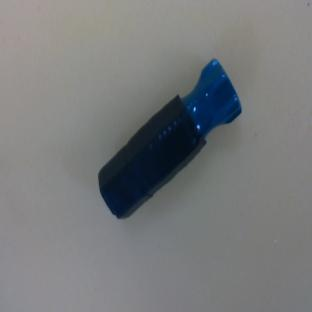part_2_bad: (83, 57, 255, 225)
